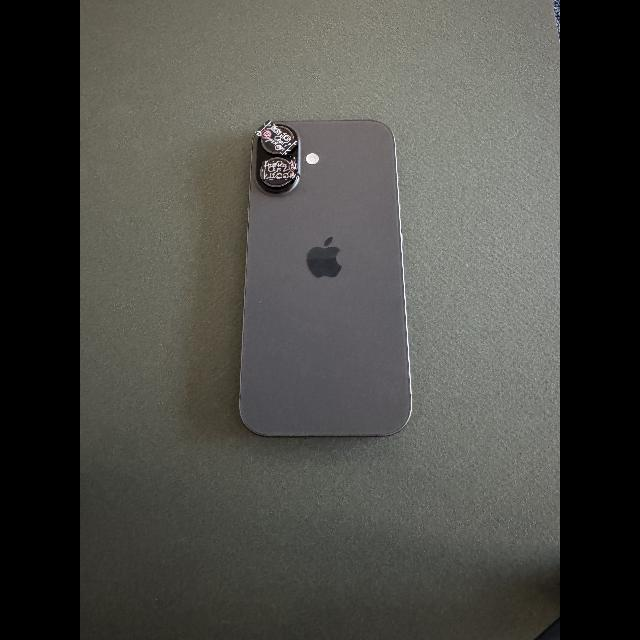lens: (263, 140, 278, 153), (266, 180, 289, 184)
phone: (239, 120, 412, 437)
sticker: (254, 120, 298, 156), (262, 157, 299, 180)
